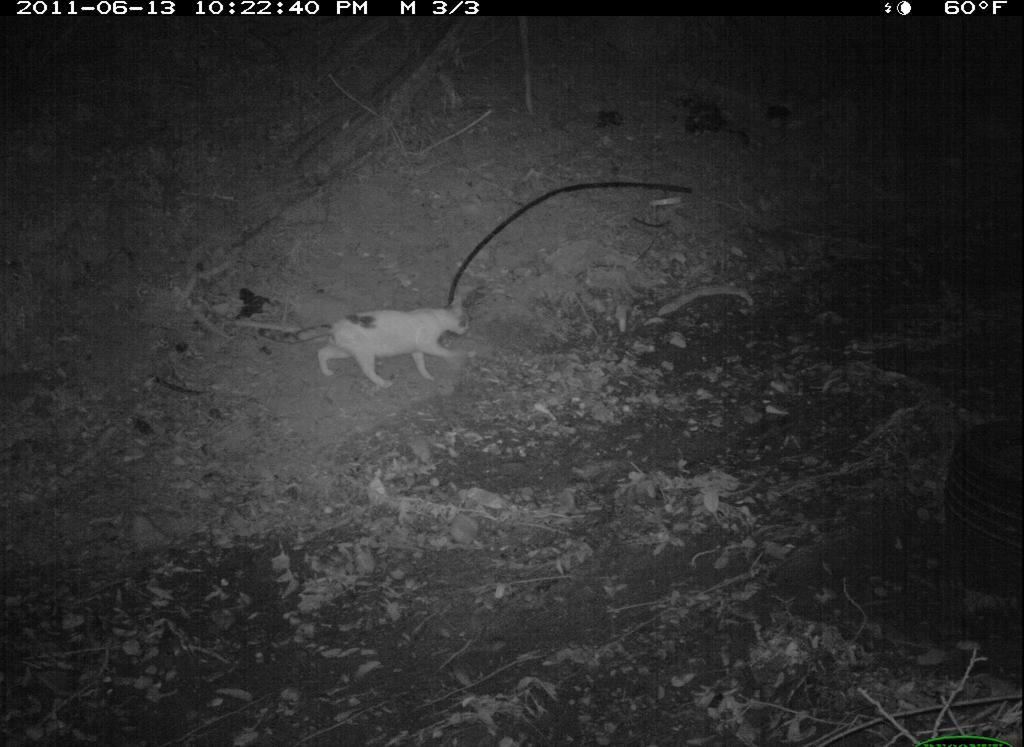cat: (278, 297, 487, 391)
